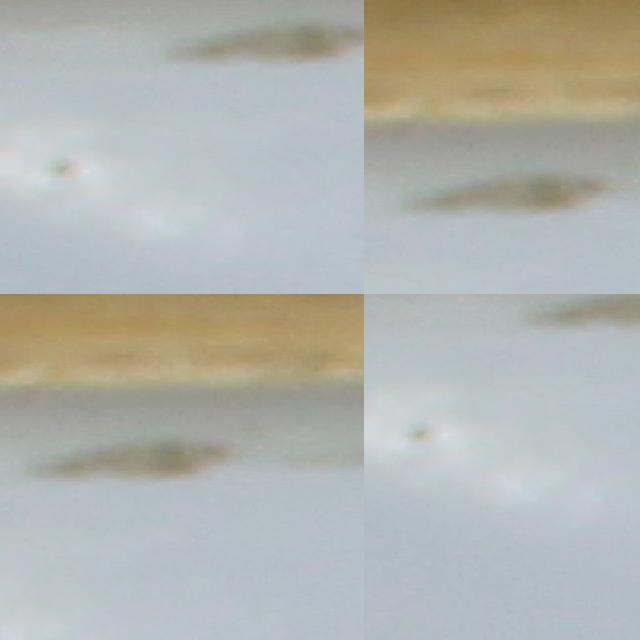fish: (364, 0, 640, 138)
